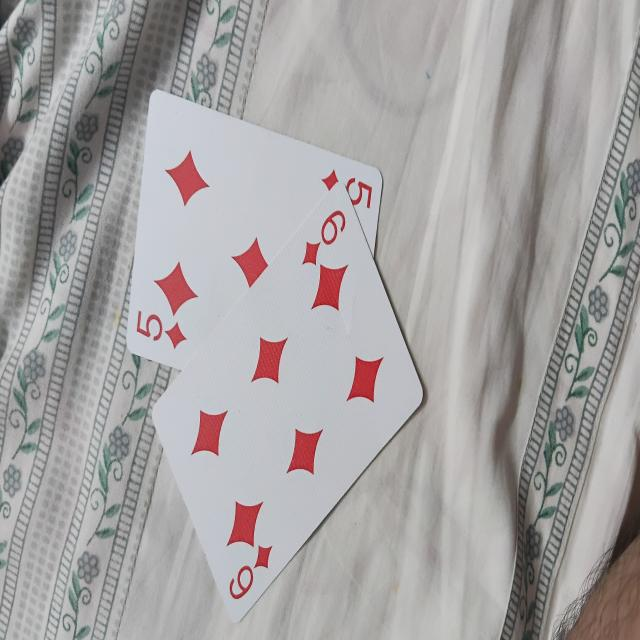6D: (172, 183, 420, 619)
